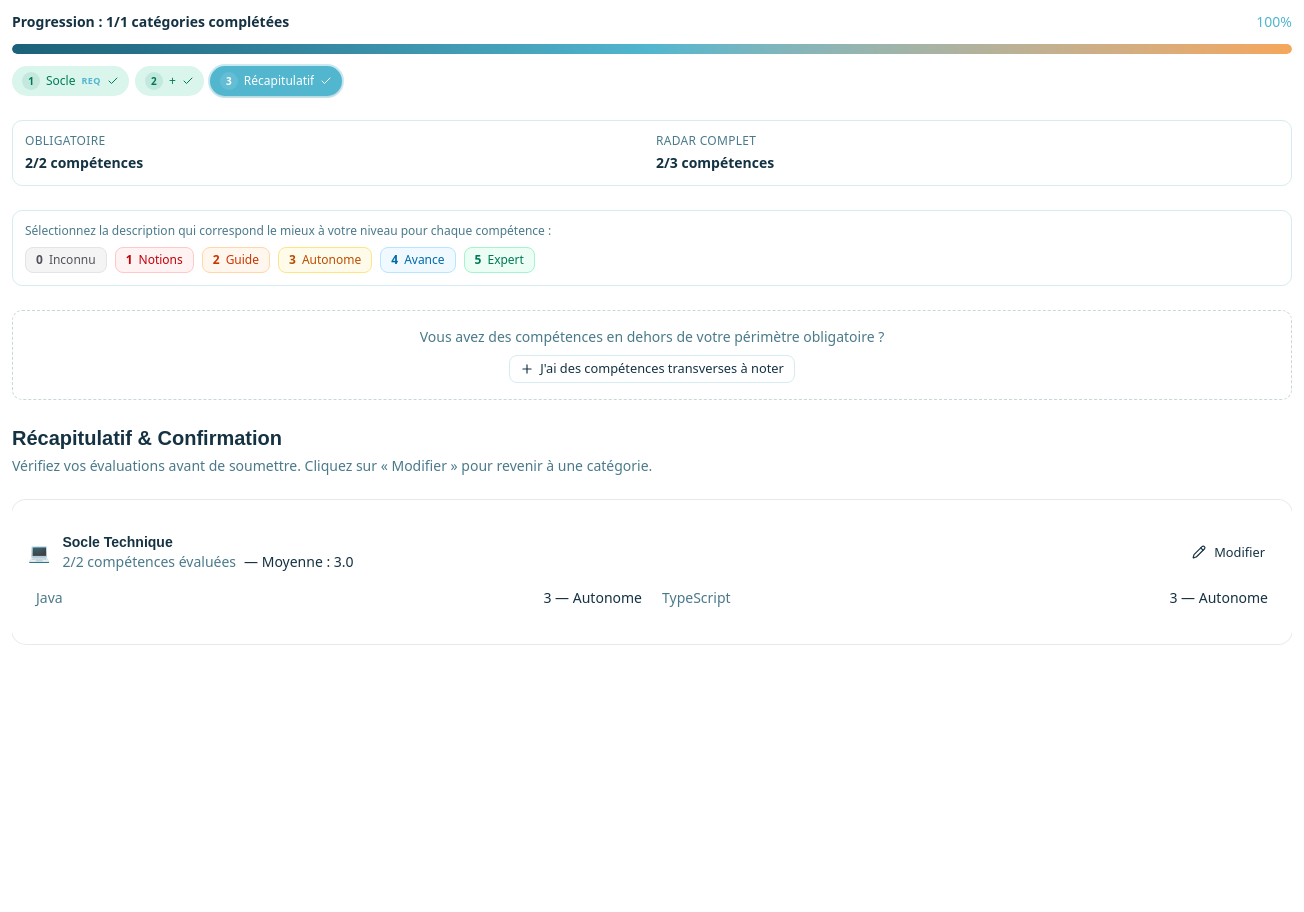
it: SkillFormWizard pre-fill behaviour › keeps non-required categories optional but easy to open from review
This screenshot has width=1304, height=912.
Expected: the text "Obligatoire" is shown, [25,132,105,149]
Expected: the text "Radar complet" is shown, [656,132,756,149]
Step 1. Click the button "J'ai des compétences transverses à noter" → (652, 369), box [509,355,795,383]
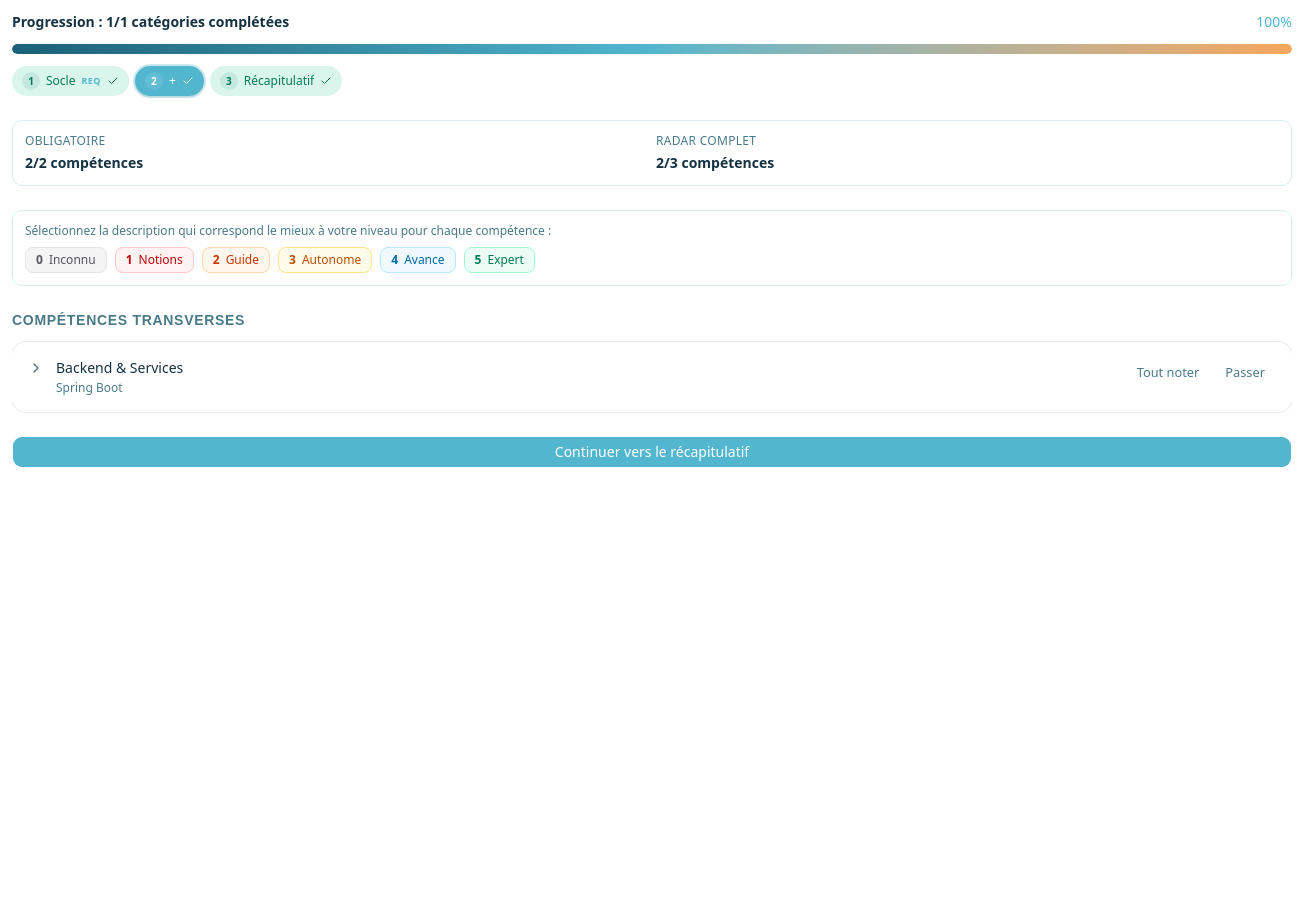
Expected: the text "Backend & Services" is shown, [56,358,183,378]
Expected: the button "Tout noter" is shown, [1126,358,1210,386]
